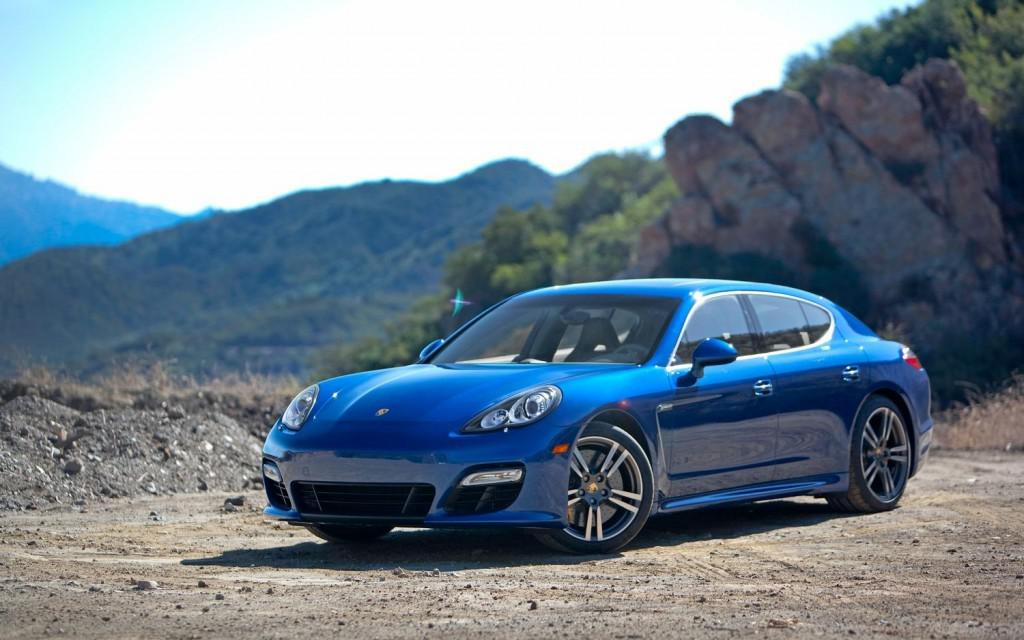Car: (225, 228, 964, 576)
